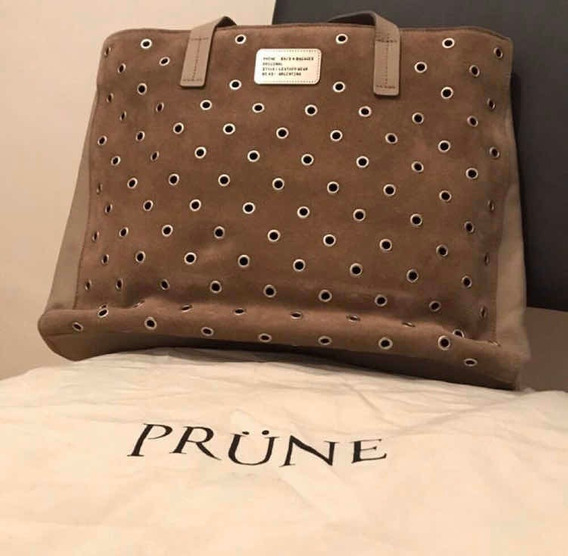cartera: (36, 13, 540, 393)
